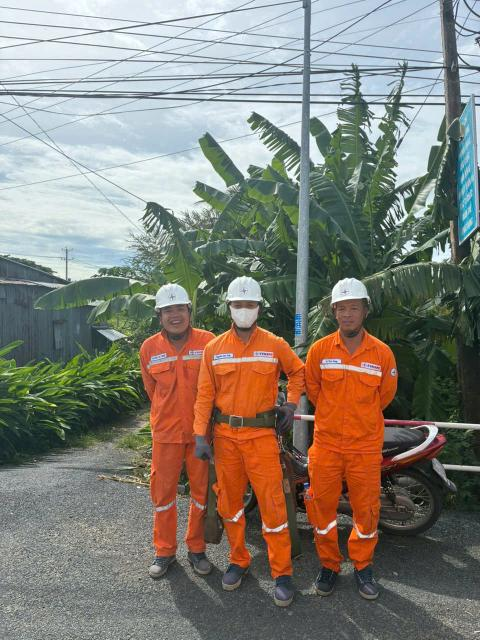gloves: (188, 425, 222, 467), (272, 401, 298, 434)
harness: (201, 399, 282, 432)
helmet: (151, 266, 199, 312), (321, 268, 370, 313), (214, 274, 268, 313)
shoes: (213, 560, 259, 593), (146, 544, 181, 584), (311, 557, 342, 598), (268, 565, 297, 608), (354, 563, 382, 603), (181, 541, 217, 571)
